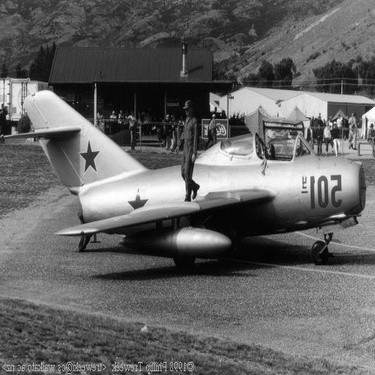airplane: (3, 65, 368, 275)
